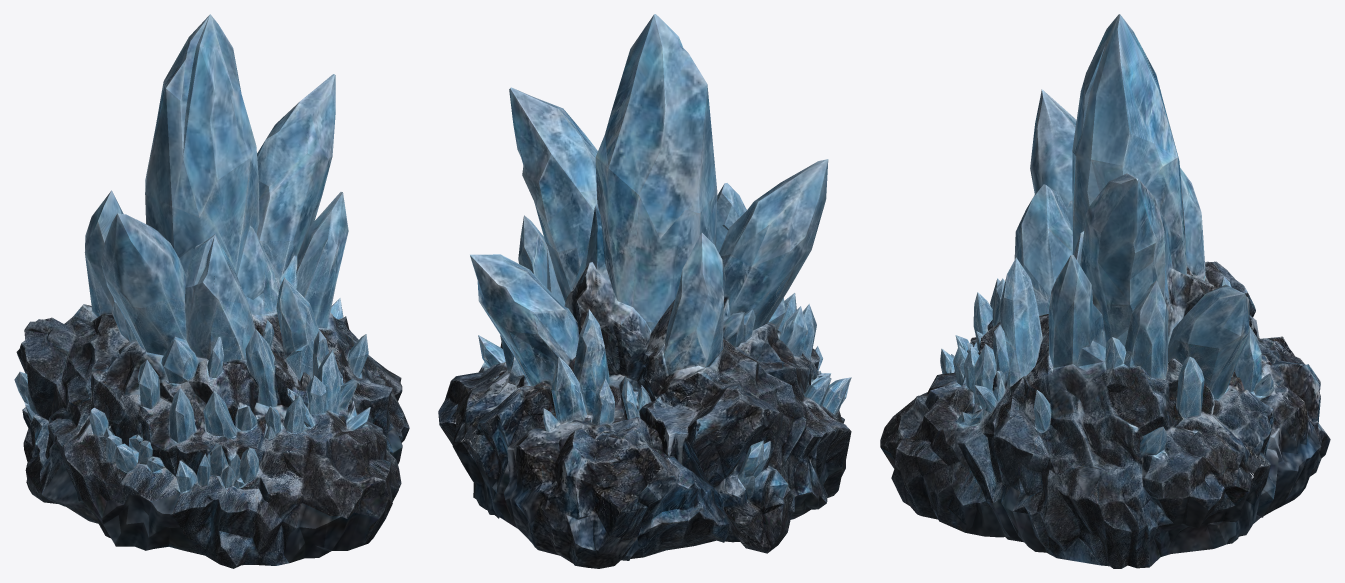
File: ice-crystal.glb
3 renders of one model, left to right at view 1: azimuth 30°, elevation 25°; view 2: azimuth 150°, elevation 25°; view 3: azimuth 270°, elevation 25°, orthographic.
Visible parts, largest first — view 1: output_unwrapped; view 2: output_unwrapped; view 3: output_unwrapped.
Boxes of the visible parts, x1,y1,x2,y2 form: output_unwrapped: [14, 14, 409, 568]; output_unwrapped: [438, 14, 851, 568]; output_unwrapped: [880, 14, 1330, 568].
Size of the model in its own units: 1.48 by 1.9 by 1.64.
1 material, 1 textured.
